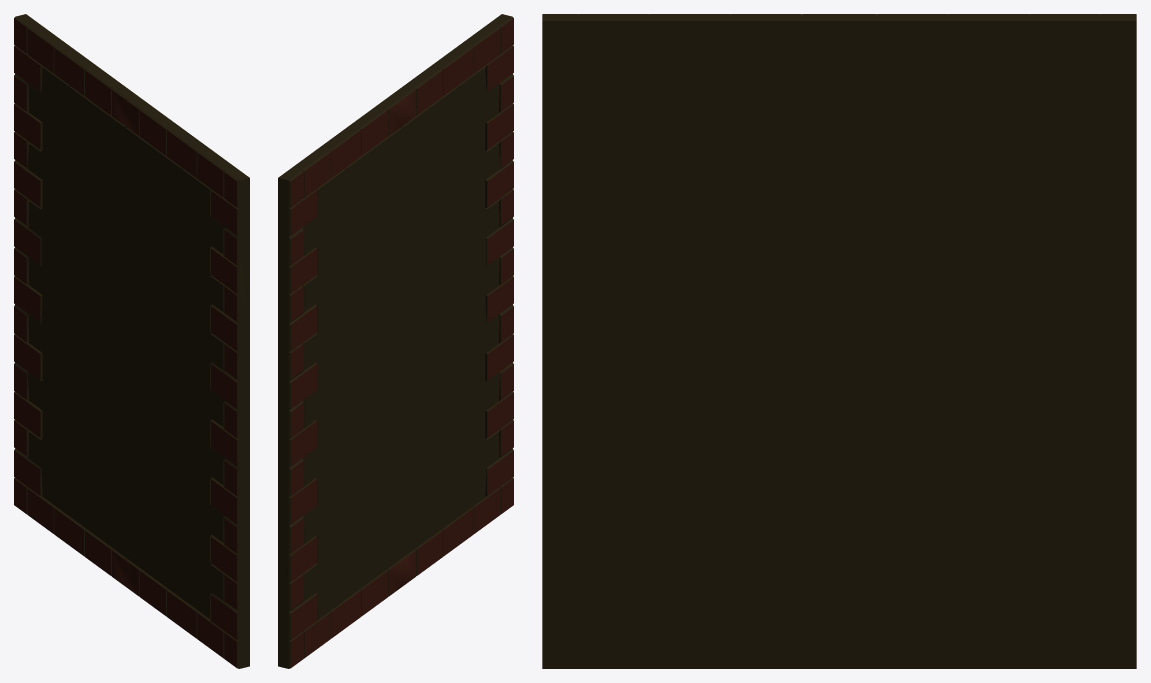
File: OpenWall.fbx
3 renders of one model, left to right at view 1: azimuth 30°, elevation 25°; view 2: azimuth 150°, elevation 25°; view 3: azimuth 270°, elevation 25°, orthographic. The views are drawn at different scales.
Parts seen in each view (by area): view 1: Box006; view 2: Box006; view 3: Box006.
Part boxes in pixels (<box>): Box006: <box>14,14,249,668</box>; Box006: <box>278,14,513,668</box>; Box006: <box>542,14,1136,668</box>.
Size of the model in its own units: 6.45 by 241 by 201.
